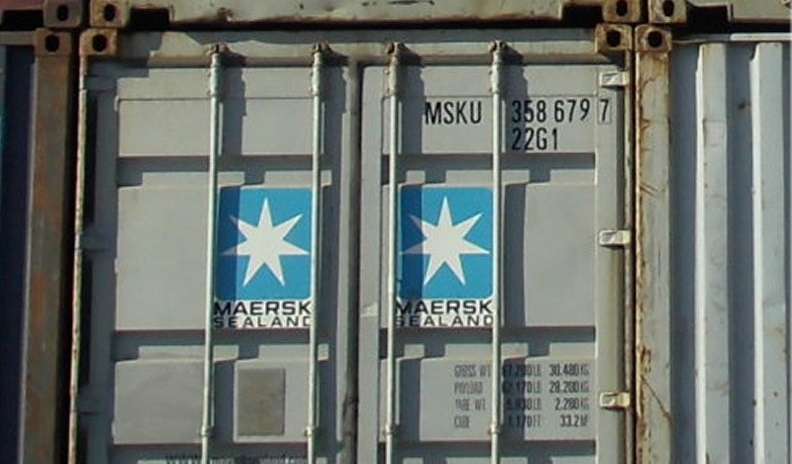container_door: (84, 26, 631, 462)
